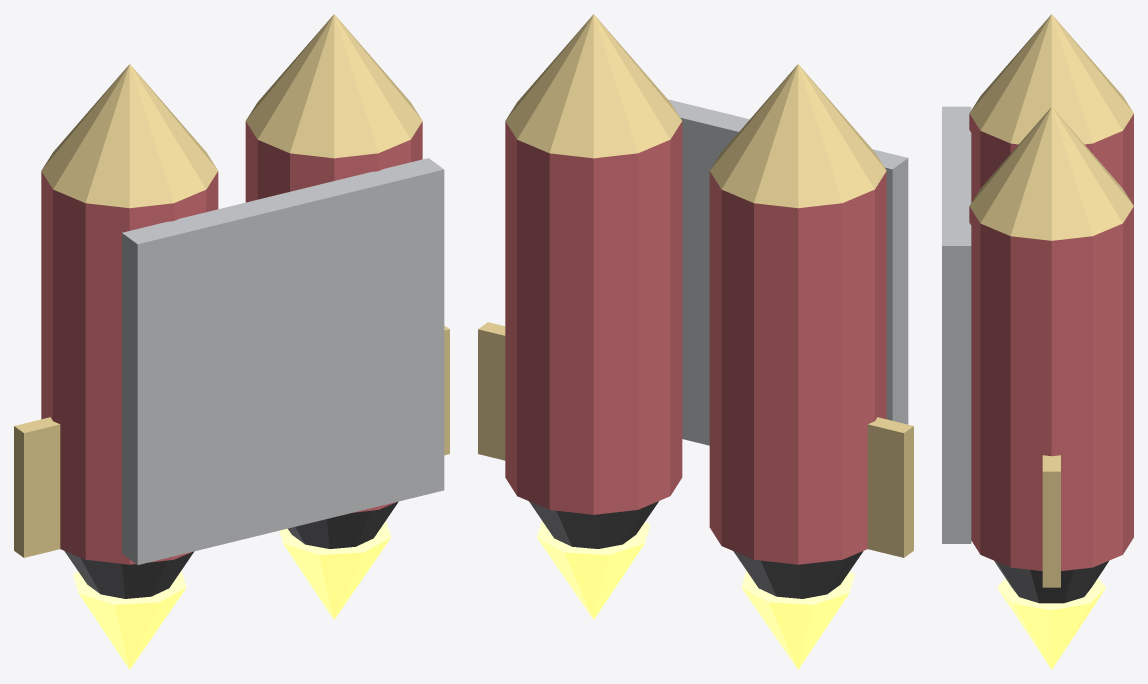
Rendered from toy_robot_rocket.glb.
3 renders of one model, left to right at view 1: azimuth 30°, elevation 25°; view 2: azimuth 150°, elevation 25°; view 3: azimuth 270°, elevation 25°, orthographic. The views are drawn at different scales.
Visible parts, largest first — view 1: Strap plate, Nose.-1, Tank.-1, Flame.-1, Nozzle.-1; view 2: Tank.-1, Nose.-1, Strap plate, Flame.-1, Nozzle.-1; view 3: Tank.-1, Nose.-1, Strap plate, Flame.-1, Nozzle.-1.
Boxes of the visible parts, bbox=[...] form: Strap plate: bbox=[122, 158, 444, 564]; Nose.-1: bbox=[14, 14, 449, 557]; Tank.-1: bbox=[41, 121, 422, 564]; Flame.-1: bbox=[73, 521, 390, 669]; Nozzle.-1: bbox=[64, 501, 398, 598]; Tank.-1: bbox=[505, 121, 886, 564]; Nose.-1: bbox=[478, 14, 913, 557]; Strap plate: bbox=[668, 99, 908, 445]; Flame.-1: bbox=[537, 521, 854, 669]; Nozzle.-1: bbox=[529, 501, 863, 598]; Tank.-1: bbox=[969, 113, 1133, 570]; Nose.-1: bbox=[969, 14, 1133, 587]; Strap plate: bbox=[942, 106, 971, 543]; Flame.-1: bbox=[997, 578, 1106, 669]; Nozzle.-1: bbox=[994, 560, 1108, 603].
Bounding box in the file's own units: 0.25 × 0.34 × 0.105.
